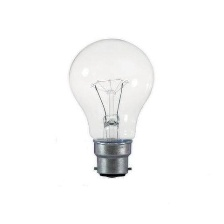light_bulb: (63, 32, 158, 187)
